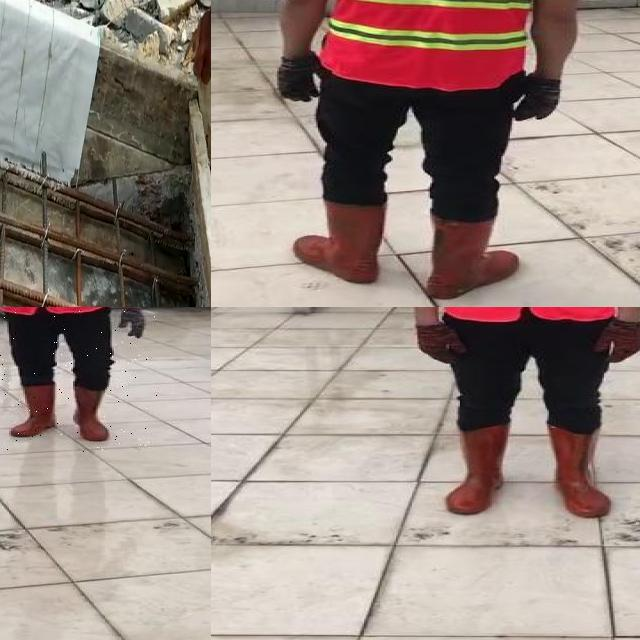boots: (424, 214, 522, 300), (293, 199, 387, 284), (545, 423, 611, 517), (446, 424, 510, 514), (11, 384, 57, 438), (69, 385, 113, 440)
hand_glove: (414, 321, 467, 365), (277, 58, 331, 101), (595, 319, 640, 364), (514, 78, 560, 121)
hand_noglove: (189, 0, 211, 80)
person: (264, 0, 607, 307), (387, 307, 640, 528), (0, 307, 157, 452)
vest: (326, 0, 561, 86)
